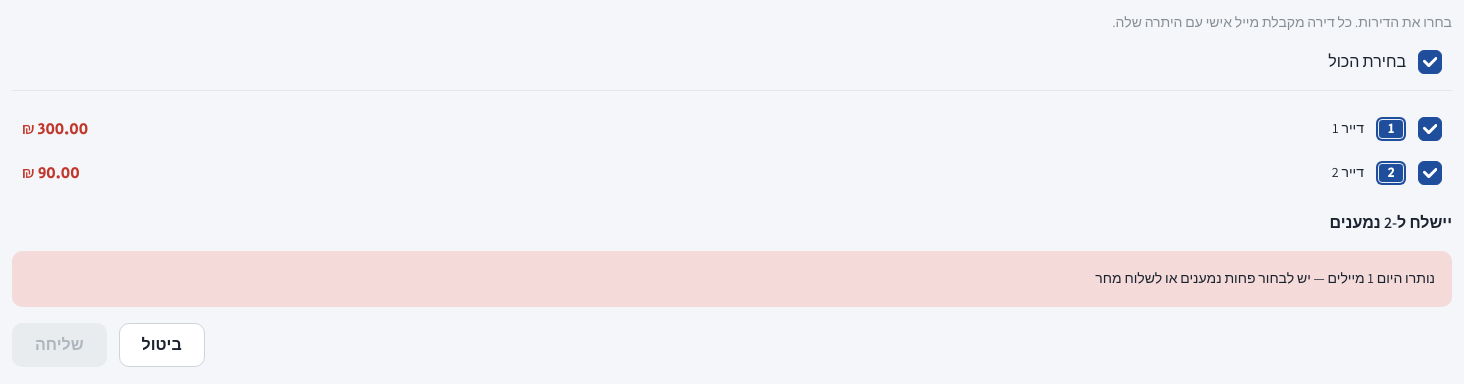
DebtBulkForm › bulk debt over today's remaining quota is disabled until fewer are picked
The width and height of the screenshot is (1464, 384).
Expected: the button "שליחה" is disabled, [12,323,107,367]
What coordinates should you click on to do the following:
click the checkbox named "תזכורת לדירה 2"
I would click on:
 (1430, 173)
Its box is [1418,161,1442,185].
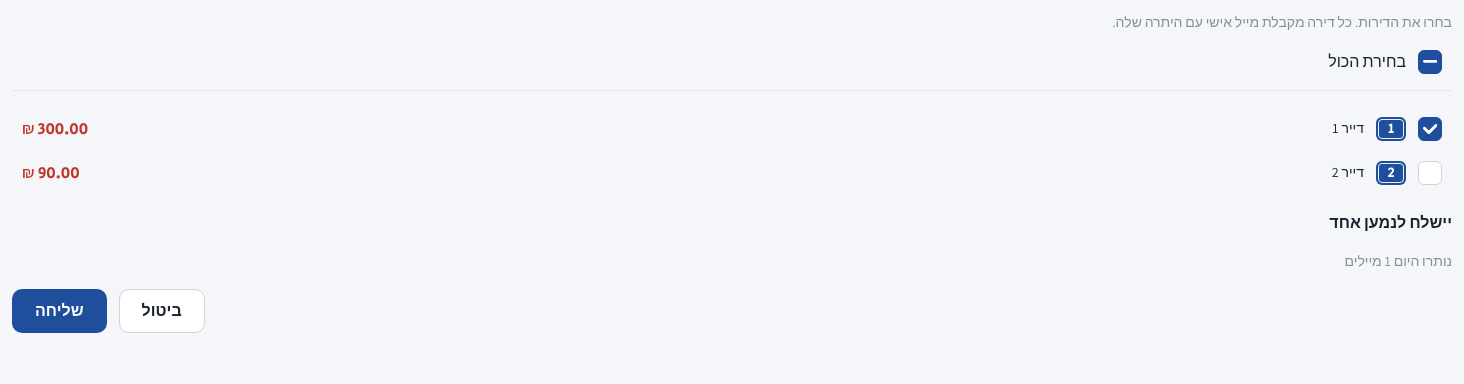
Expected: the button "שליחה" is enabled, [12,289,107,333]
